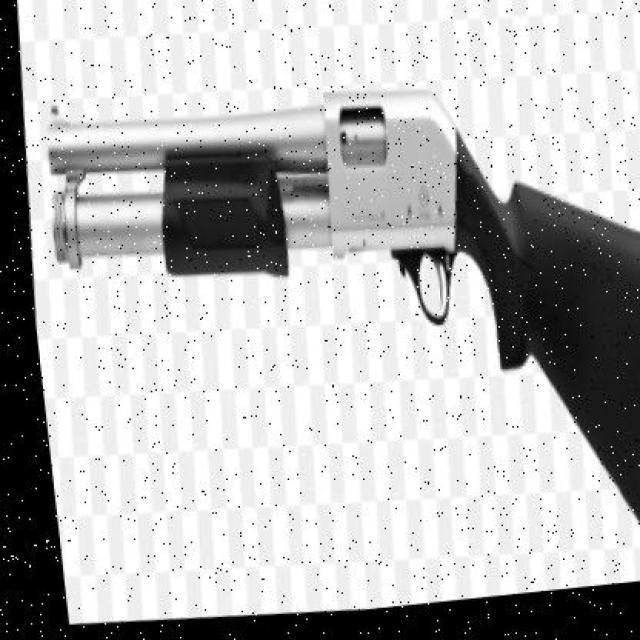weapon: (46, 88, 640, 531)
